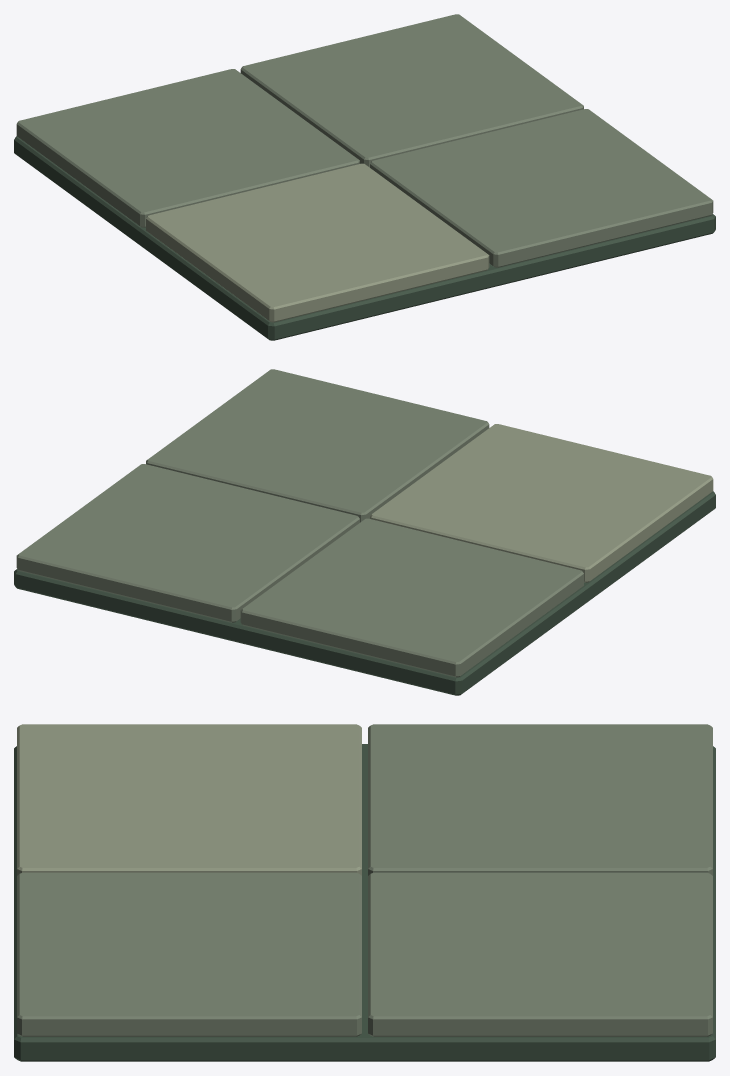
Rendered from landing.glb.
3 renders of one model, top to bottom at view 1: azimuth 30°, elevation 25°; view 2: azimuth 150°, elevation 25°; view 3: azimuth 270°, elevation 25°, orthographic. The views are drawn at different scales.
Visible parts, largest first — view 1: landing__body; view 2: landing__body; view 3: landing__body.
Part boxes in pixels (bbox=[...]): landing__body: bbox=[14, 14, 715, 340]; landing__body: bbox=[14, 369, 715, 695]; landing__body: bbox=[14, 724, 715, 1061].
Bounding box in the file's own units: 2 × 0.14 × 2.
